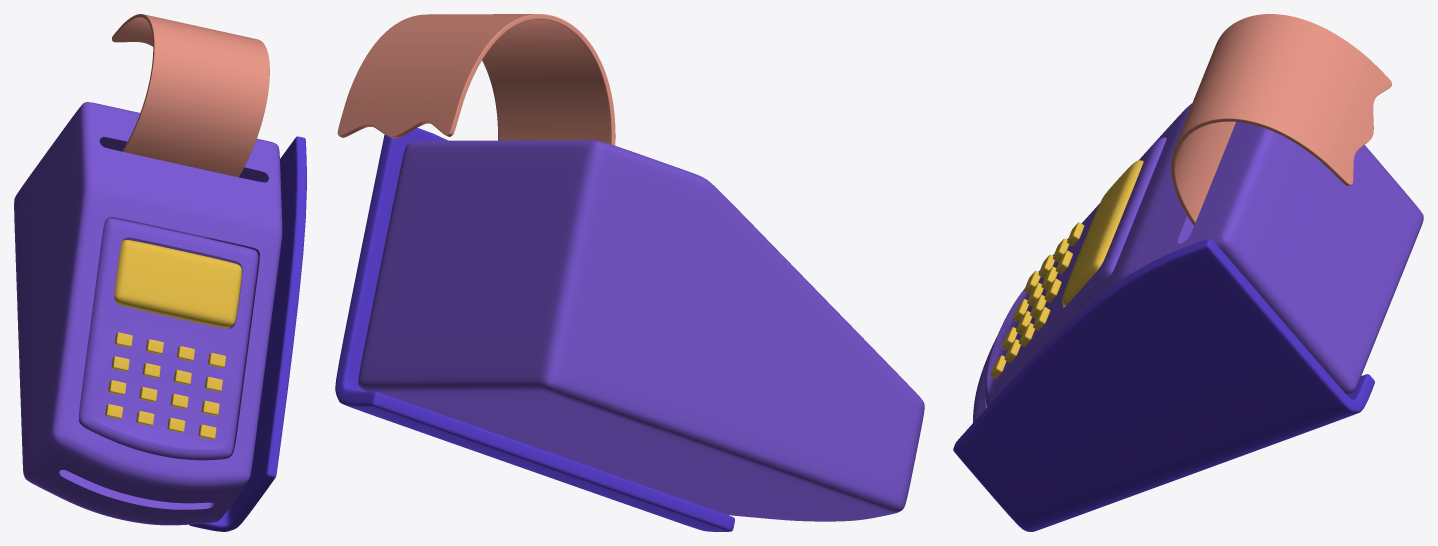
The model's file is edc-machine-3d-icon-877262550674.glb.
3 renders of one model, left to right at view 1: azimuth 30°, elevation 25°; view 2: azimuth 150°, elevation 25°; view 3: azimuth 270°, elevation 25°, orthographic. The views are drawn at different scales.
Parts seen in each view (by area): view 1: Body 2, Paper, Body 1, Screen, Button; view 2: Body 2, Paper, Body 1; view 3: Body 1, Body 2, Paper, Button, Screen.
Boxes of the visible parts, x1=… form: Body 2: x1=14, y1=102, x2=282, y2=525; Paper: x1=112, y1=14, x2=269, y2=177; Body 1: x1=189, y1=136, x2=306, y2=531; Screen: x1=114, y1=239, x2=241, y2=328; Button: x1=105, y1=332, x2=225, y2=439; Body 2: x1=358, y1=140, x2=924, y2=521; Paper: x1=337, y1=14, x2=615, y2=145; Body 1: x1=335, y1=128, x2=734, y2=531; Body 1: x1=953, y1=238, x2=1374, y2=531; Body 2: x1=973, y1=103, x2=1423, y2=422; Paper: x1=1170, y1=14, x2=1391, y2=225; Button: x1=990, y1=222, x2=1084, y2=378; Screen: x1=1062, y1=160, x2=1143, y2=306.
Size of the model in its own units: 1.81 by 2.3 by 1.84.
